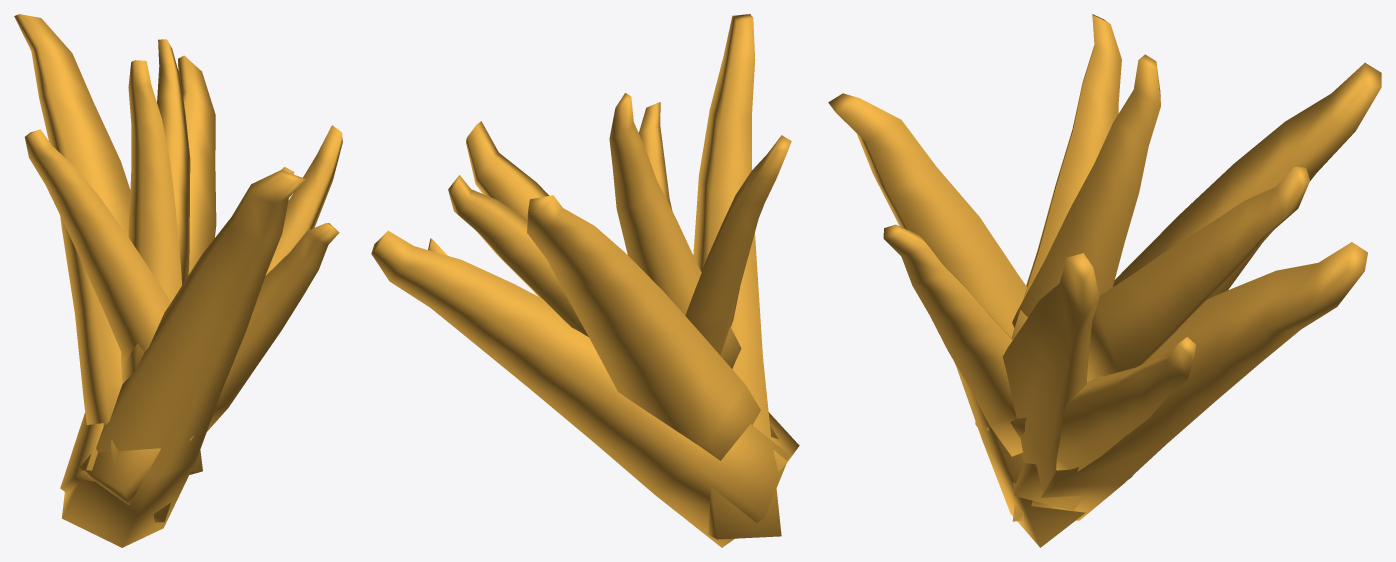
Rendered from coral 3.gltf.
3 renders of one model, left to right at view 1: azimuth 30°, elevation 25°; view 2: azimuth 150°, elevation 25°; view 3: azimuth 270°, elevation 25°, orthographic. The views are drawn at different scales.
Visible parts, largest first — view 1: node-0; view 2: node-0; view 3: node-0.
Boxes of the visible parts, left/top/right/bottom form: node-0: left=14, top=14, right=342, bottom=547; node-0: left=371, top=14, right=799, bottom=547; node-0: left=828, top=14, right=1381, bottom=547.
Size of the model in its own units: 0.4295 by 0.5727 by 0.5713.
